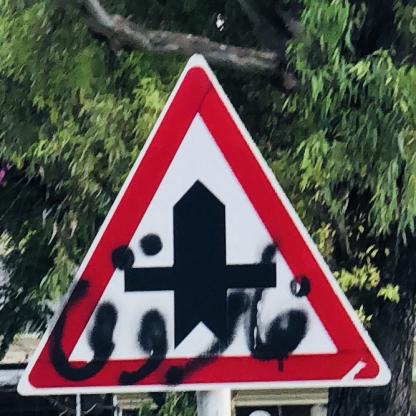Cross Roads: (17, 53, 394, 389)
